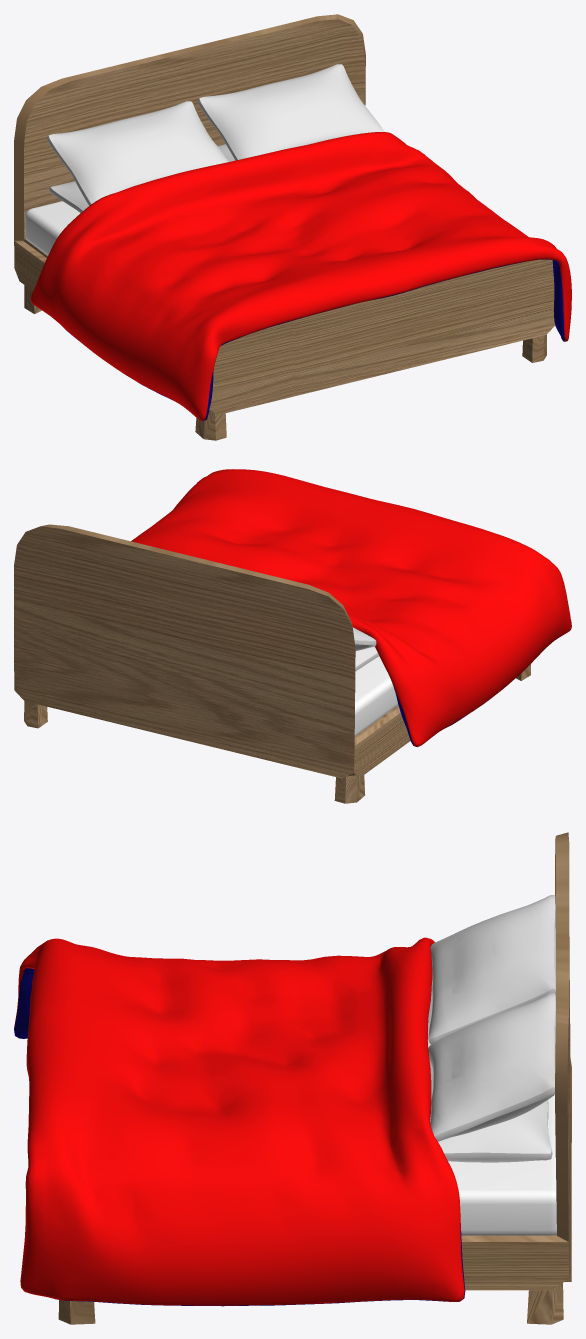
File: Bed_lowpoly.FBX
The picture shows the model from 3 angles, top to bottom: view 1: azimuth 30°, elevation 25°; view 2: azimuth 150°, elevation 25°; view 3: azimuth 270°, elevation 25°; orthographic projection. The views are drawn at different scales.
Visible parts, largest first — view 1: Plane008, Box006, Plane007, Plane006, Box007, Plane005; view 2: Box006, Plane008, Box007; view 3: Plane008, Box006, Plane007, Plane006, Box007, Plane004.
Boxes of the visible parts, box(x1,y1,x2,y2) form: Plane008: box(30, 132, 571, 420); Box006: box(14, 14, 555, 440); Plane007: box(198, 64, 384, 160); Plane006: box(47, 101, 228, 205); Box007: box(25, 201, 80, 255); Plane005: box(49, 181, 88, 213); Box006: box(14, 524, 530, 803); Plane008: box(131, 469, 571, 746); Box007: box(354, 656, 398, 736); Plane008: box(14, 937, 465, 1306); Box006: box(58, 832, 571, 1324); Plane007: box(428, 993, 555, 1141); Plane006: box(428, 895, 555, 1044); Box007: box(448, 1094, 556, 1235); Plane004: box(429, 1060, 552, 1162).
Bounding box in the file's own units: 96.12 × 48.37 × 85.27.
4 materials, 1 textured.
